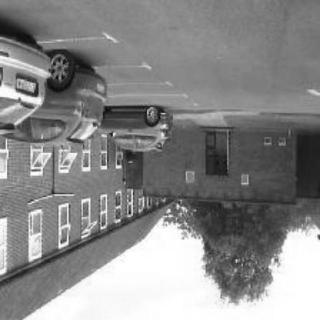other: (12, 68, 110, 156)
